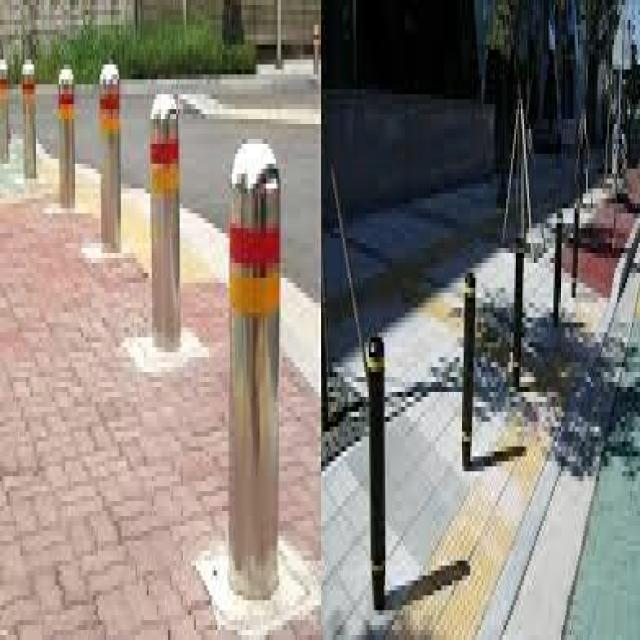bollard: (228, 134, 282, 608), (148, 81, 187, 366), (365, 328, 391, 630), (97, 56, 127, 254), (55, 56, 79, 216), (459, 258, 476, 474), (510, 233, 526, 430), (20, 55, 40, 182), (550, 196, 567, 342), (0, 48, 12, 172), (571, 185, 581, 313)
